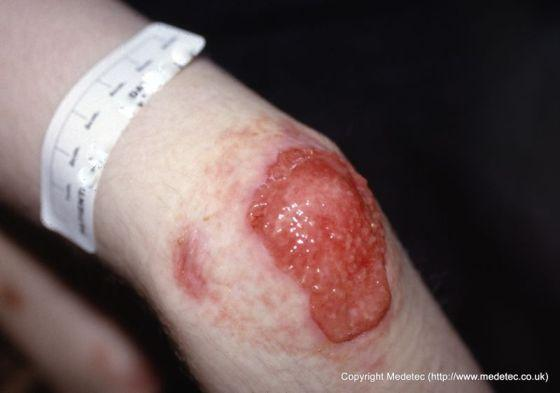NonPU: (159, 133, 402, 356)
